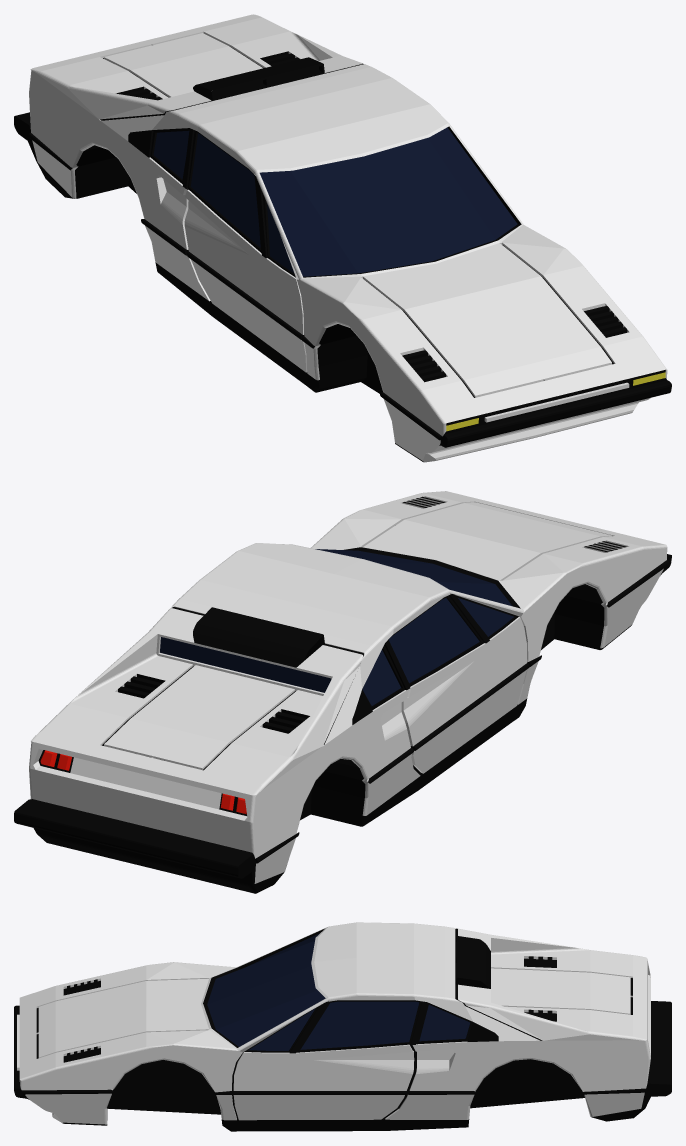
Rendered from sportsCar.fbx.
The picture shows the model from 3 angles, top to bottom: view 1: azimuth 30°, elevation 25°; view 2: azimuth 150°, elevation 25°; view 3: azimuth 270°, elevation 25°; orthographic projection. The views are drawn at different scales.
Visible parts, largest first — view 1: Cube; view 2: Cube; view 3: Cube.
Boxes of the visible parts, x1,y1,x2,y2 form: Cube: [14, 14, 671, 462]; Cube: [14, 491, 671, 893]; Cube: [14, 922, 671, 1131].
Bounding box in the file's own units: 131 × 99.95 × 432.
